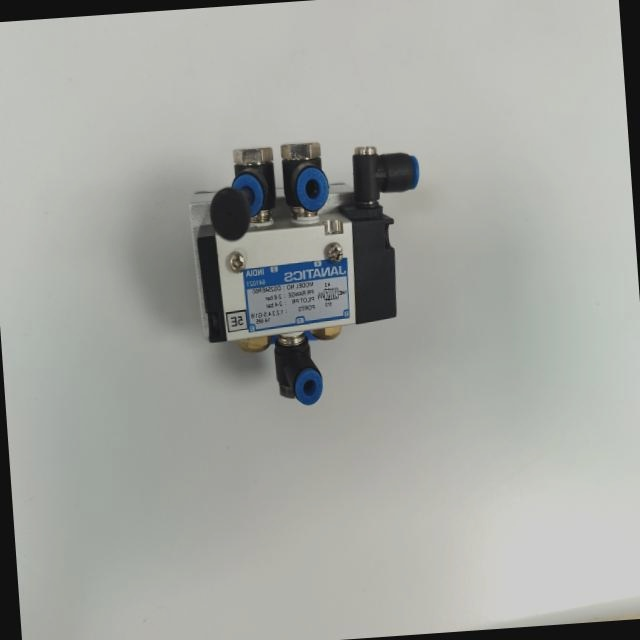5by2 DCV: (173, 111, 445, 423)
